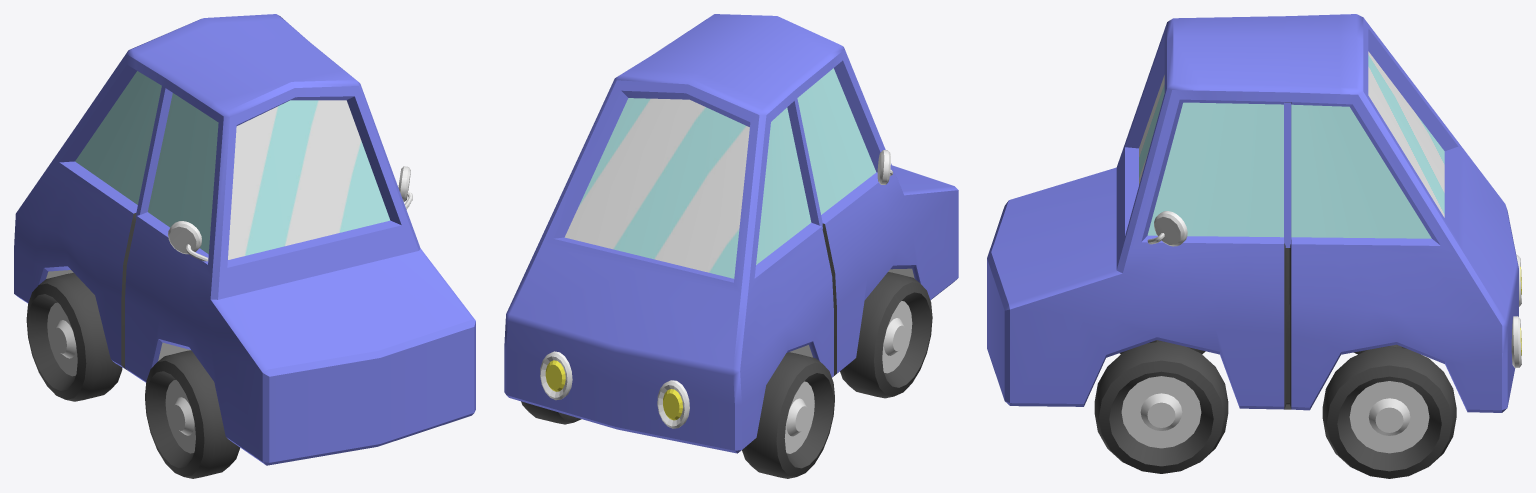
Rendered from cute car 2.fbx.
3 views of the same model, side by side, from view 1: azimuth 30°, elevation 25°; view 2: azimuth 150°, elevation 25°; view 3: azimuth 270°, elevation 25° (orthographic). The views are drawn at different scales.
Parts seen in each view (by area): view 1: body, polySurface118, polySurface119; view 2: body, polySurface118, polySurface119, polySurface112; view 3: body, polySurface112, polySurface113.
Boxes of the visible parts, x1,y1,x2,y2 form: body: (14,14,475,465); polySurface118: (26,272,122,401); polySurface119: (145,350,239,478); body: (504,14,958,453); polySurface118: (742,352,834,478); polySurface119: (840,272,932,398); polySurface112: (521,401,581,424); body: (987,14,1521,412); polySurface112: (1322,346,1456,478); polySurface113: (1094,341,1228,473).
Bounding box in the file's own units: 31.01 × 39.43 × 50.5.
1 material, 1 textured.
